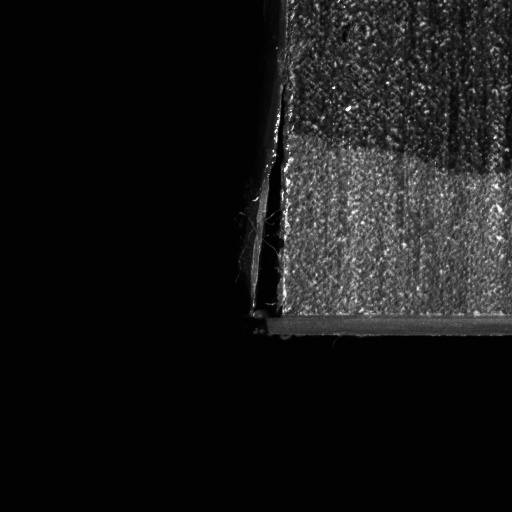kaijiao: (244, 85, 289, 341)
